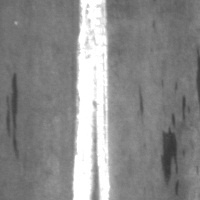inclusion: (160, 112, 181, 190), (4, 71, 21, 157), (133, 83, 148, 121)
scratches: (71, 1, 113, 200)
